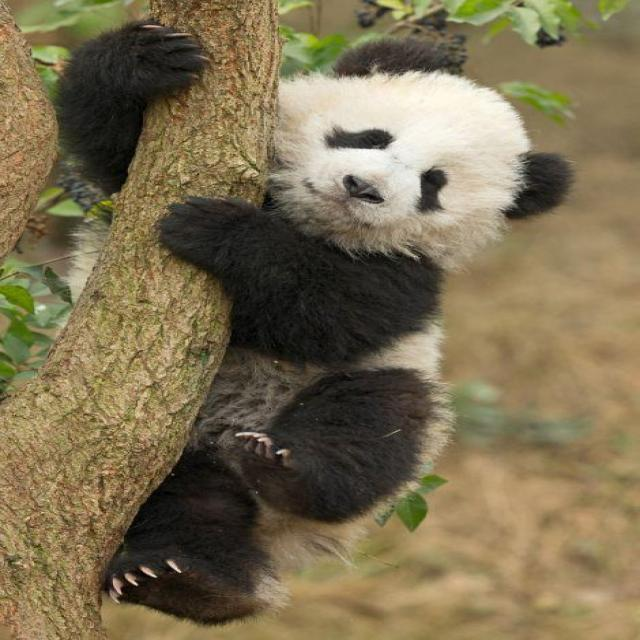panda: (51, 22, 580, 627)
